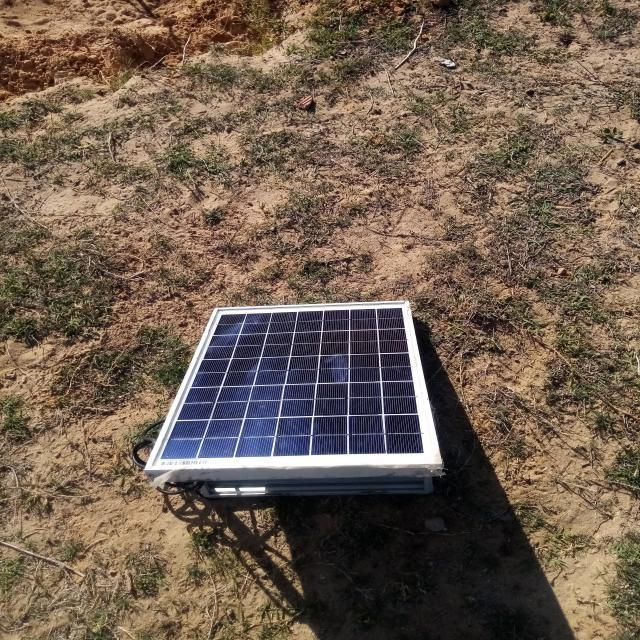no faulty: (146, 302, 441, 469)
